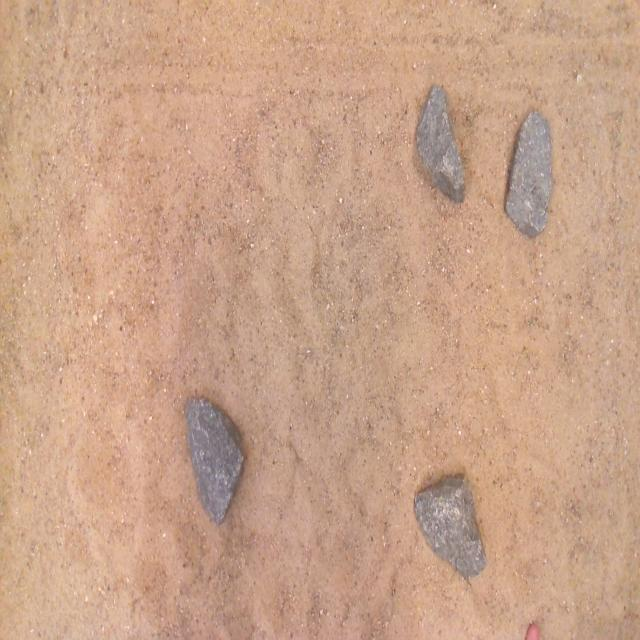rock: (415, 475, 486, 578), (185, 399, 243, 523), (505, 111, 551, 236), (416, 87, 465, 201)
